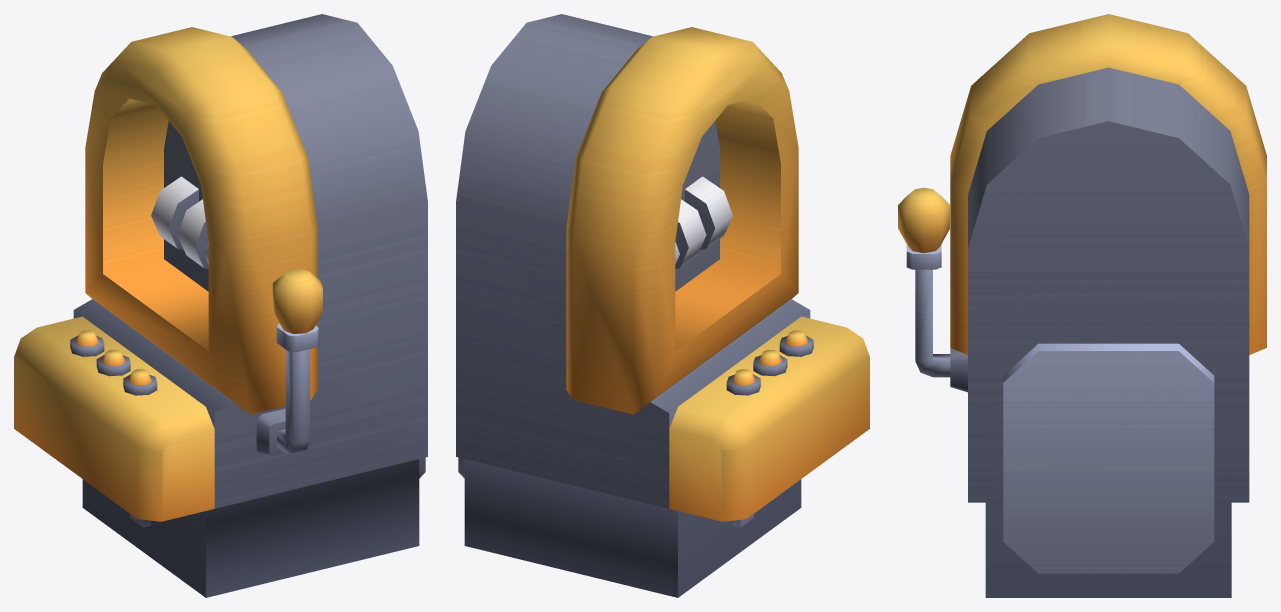
File: gambling-machine.029_lev2.glb
3 views of the same model, side by side, from view 1: azimuth 30°, elevation 25°; view 2: azimuth 150°, elevation 25°; view 3: azimuth 270°, elevation 25° (orthographic).
Visible parts, largest first — view 1: gambling-machine.029_lev2; view 2: gambling-machine.029_lev2; view 3: gambling-machine.029_lev2.
Boxes of the visible parts, x1,y1,x2,y2 form: gambling-machine.029_lev2: (14,14,427,597); gambling-machine.029_lev2: (456,14,869,597); gambling-machine.029_lev2: (898,14,1266,597).
Bounding box in the file's own units: 1.95 × 3.1 × 2.1.
Materials: 1 (1 with a texture image).
